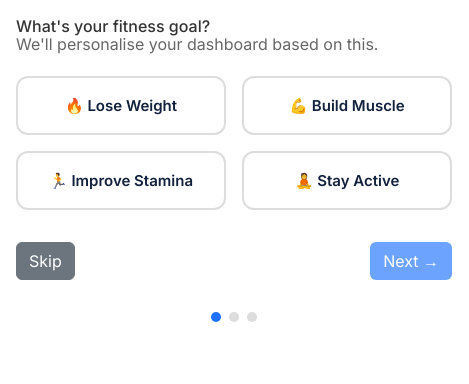
Onboarding › moves to reminders screen after selecting level and clicking Next
Click the switch "🔥 Lose Weight". click: (121, 106)
box: top-left (16, 76), bottom-right (226, 135)
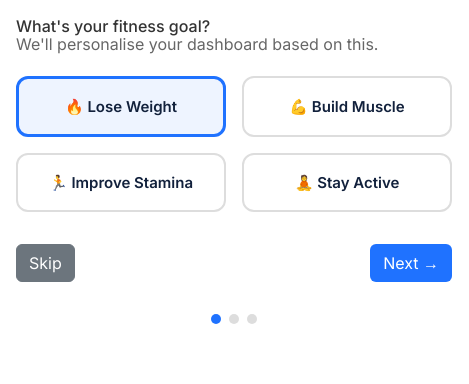
Click the button "Next →". click: (411, 263)
box: top-left (370, 244), bottom-right (452, 282)
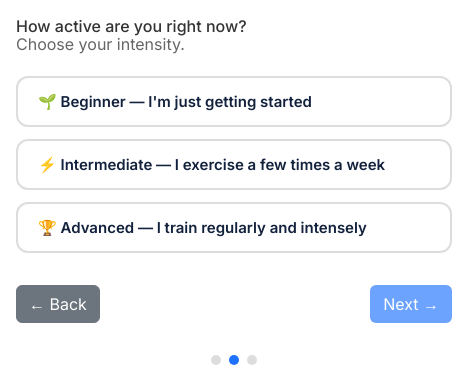
Click the switch "🌱 Beginner — I'm just getting started". click: (234, 102)
box: top-left (16, 76), bottom-right (452, 127)
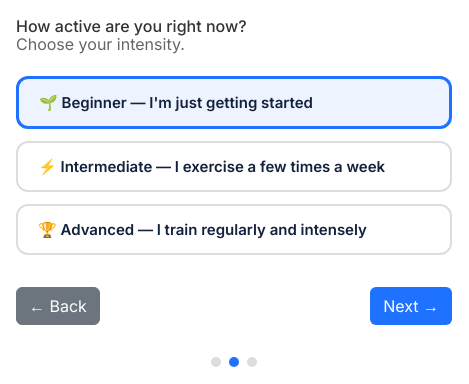
Click the button "Next →". click: (411, 306)
box: top-left (370, 287), bottom-right (452, 325)
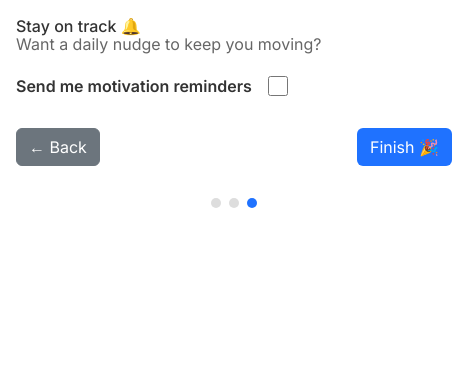
Expected: the heading "Stay on track 🔔" is shown, top-left (16, 16), bottom-right (141, 36)
